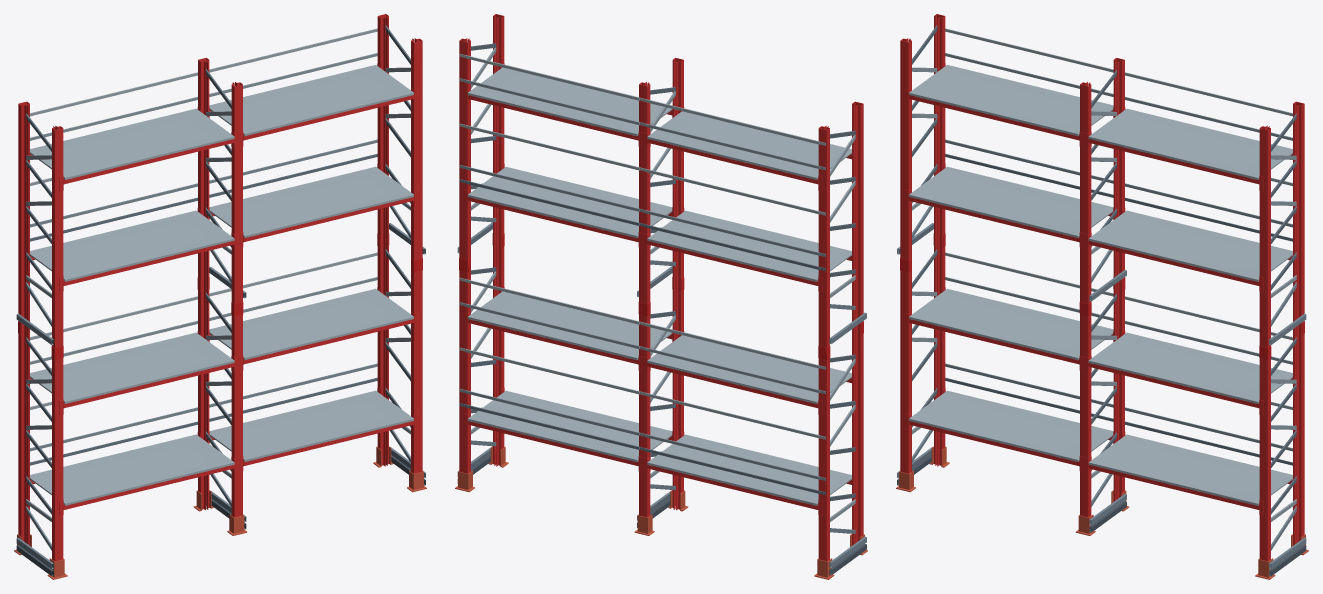
File: SM_ShelfEmptyx3_Red_B.fbx
The picture shows the model from 3 angles, left to right: view 1: azimuth 30°, elevation 25°; view 2: azimuth 150°, elevation 25°; view 3: azimuth 330°, elevation 25°; orthographic projection.
Parts seen in each view (by area): view 1: SM_ShelfEmptyx3_Red_B; view 2: SM_ShelfEmptyx3_Red_B; view 3: SM_ShelfEmptyx3_Red_B.
Part boxes in pixels (bbox=[...]): SM_ShelfEmptyx3_Red_B: bbox=[14, 14, 426, 579]; SM_ShelfEmptyx3_Red_B: bbox=[455, 14, 867, 579]; SM_ShelfEmptyx3_Red_B: bbox=[896, 14, 1308, 579].
Size of the model in its own units: 646 by 739 by 118.
